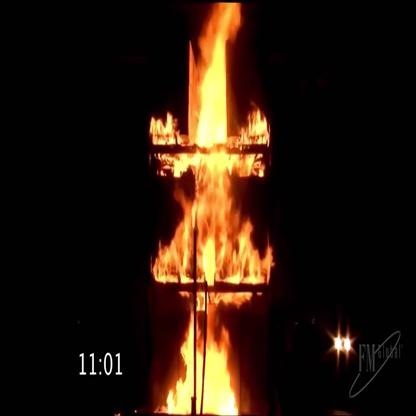Fire: (143, 0, 278, 415)
